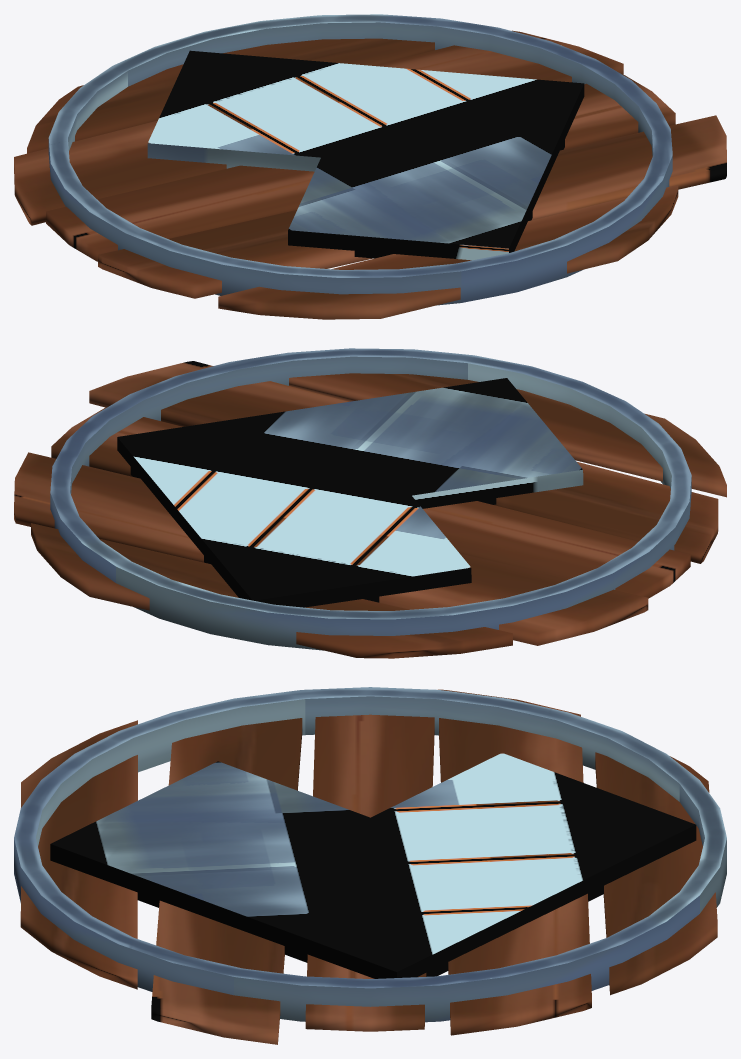
Rendered from StartCase.fbx.
3 views of the same model, one above another, from view 1: azimuth 30°, elevation 25°; view 2: azimuth 150°, elevation 25°; view 3: azimuth 270°, elevation 25° (orthographic). The views are drawn at different scales.
Parts seen in each view (by area): view 1: Cube; view 2: Cube; view 3: Cube.
Boxes of the visible parts, <box> form: Cube: <box>14,14,726,319</box>; Cube: <box>14,348,726,658</box>; Cube: <box>14,687,726,1044</box>.
Bounding box in the file's own units: 227 × 11.18 × 200.
